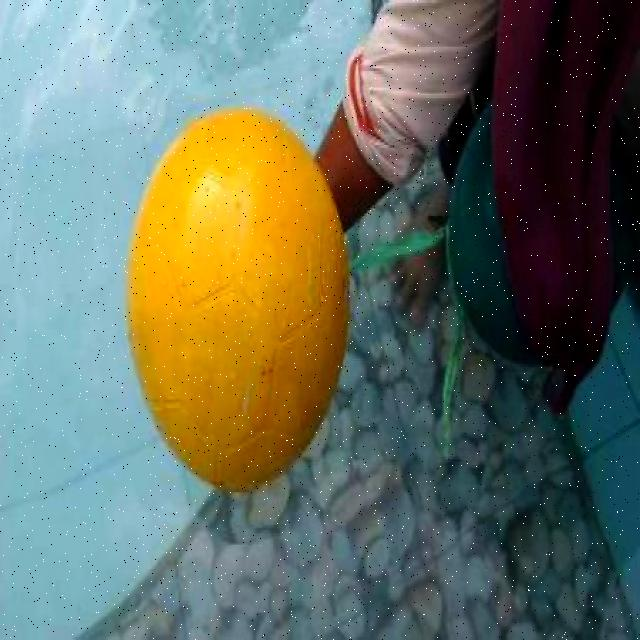buoy: (125, 107, 350, 489)
